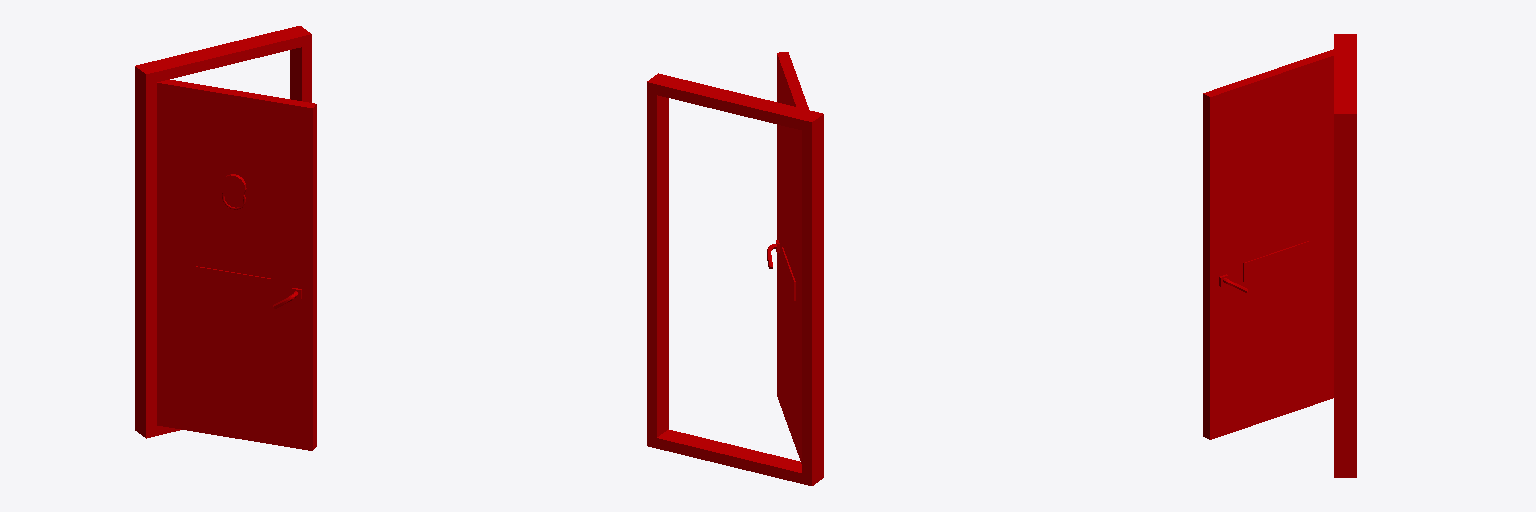
The model's file is door.obj.
The picture shows the model from 3 angles: view 1: azimuth 30°, elevation 25°; view 2: azimuth 150°, elevation 25°; view 3: azimuth 270°, elevation 25°; orthographic projection.
Visible parts, largest first — view 1: Doors_(2); view 2: Doors_(2); view 3: Doors_(2).
Boxes of the visible parts, <box> form: Doors_(2): <box>135,26,316,450</box>; Doors_(2): <box>647,52,823,485</box>; Doors_(2): <box>1203,34,1356,477</box>.
Size of the model in its own units: 3.49 by 7.33 by 2.82.